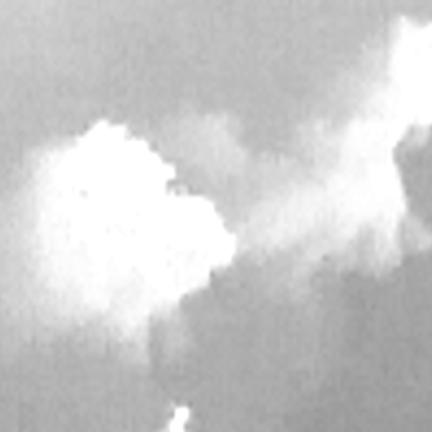flukeprints: (33, 124, 236, 333)
